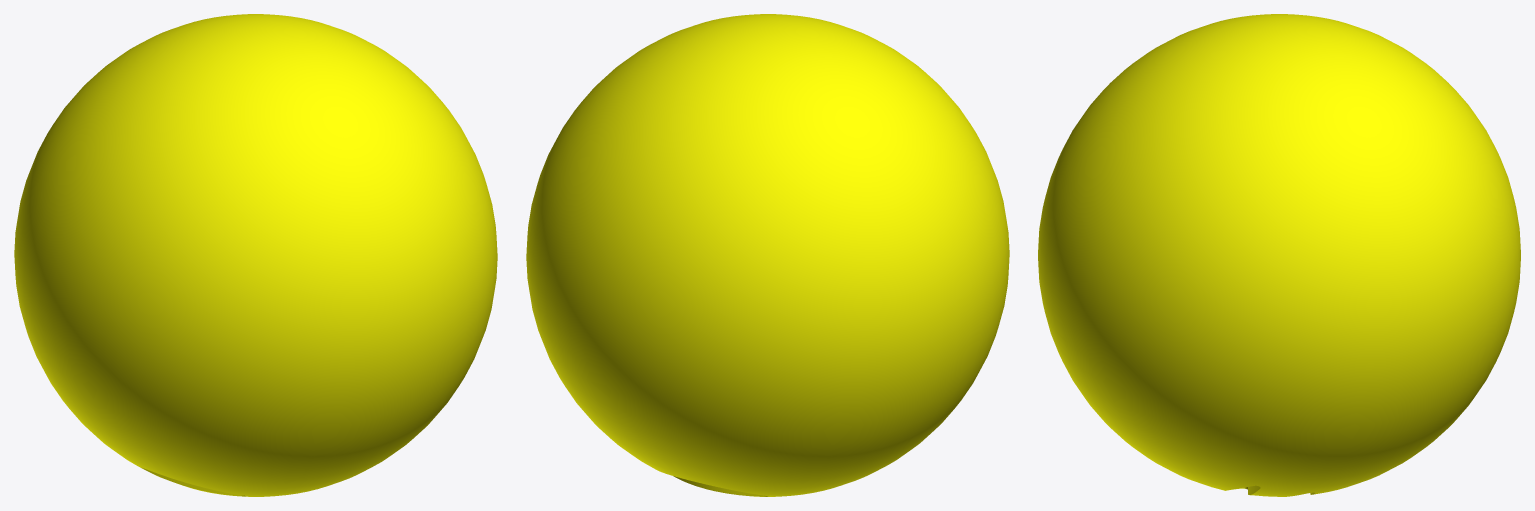
Rendered from wink.fbx.
The picture shows the model from 3 angles, left to right: view 1: azimuth 30°, elevation 25°; view 2: azimuth 150°, elevation 25°; view 3: azimuth 270°, elevation 25°; orthographic projection.
Visible parts, largest first — view 1: Object_1; view 2: Object_1; view 3: Object_1.
Boxes of the visible parts, x1,y1,x2,y2 form: Object_1: (14,14,497,496); Object_1: (526,14,1009,496); Object_1: (1038,14,1520,496).
Bounding box in the file's own units: 39.38 × 39.43 × 39.38.
